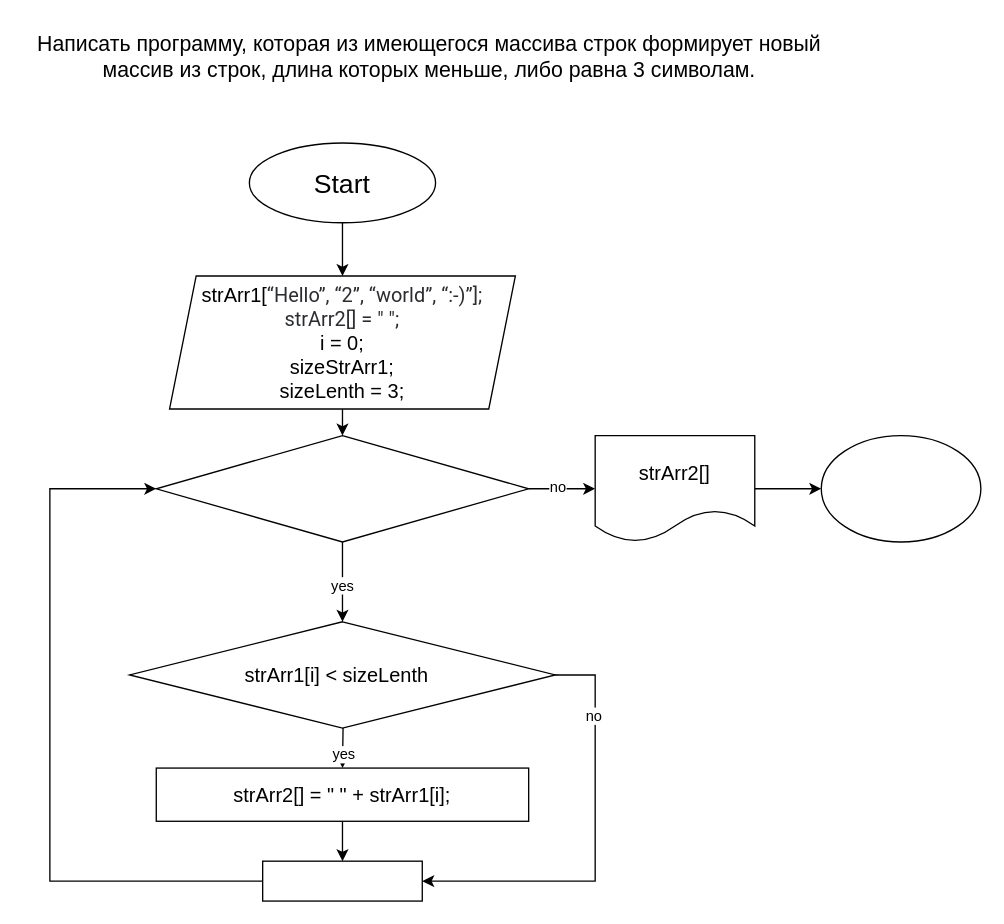
The diagram is 1004 pixels wide and 924 high, and some of its shapes have lost their labels. The shapes that lost their labels are listed below. From the top down, each one's centre as x and y in pixels, then its label:
At (x=342, y=488): "i < sizeStrArr1 ?".
At (x=900, y=488): "End".
At (x=341, y=880): "i++".
